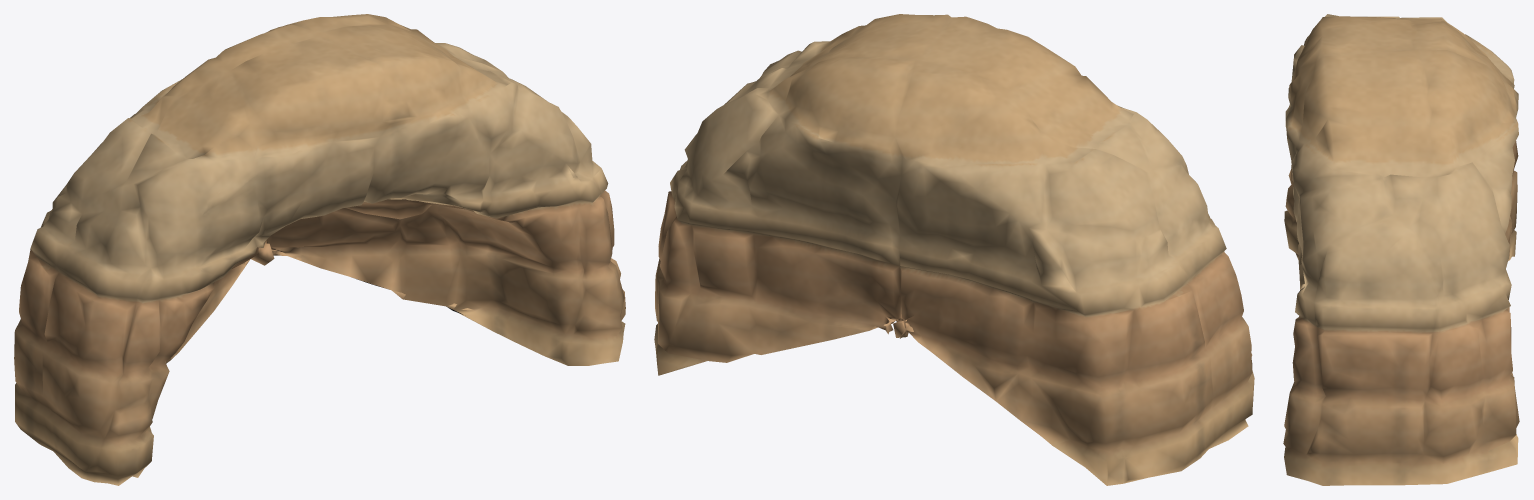
Rendered from alcove.glb.
3 views of the same model, side by side, from view 1: azimuth 30°, elevation 25°; view 2: azimuth 150°, elevation 25°; view 3: azimuth 270°, elevation 25° (orthographic). The views are drawn at different scales.
Parts seen in each view (by area): view 1: alcove_game; view 2: alcove_game; view 3: alcove_game.
Boxes of the visible parts, x1=… form: alcove_game: x1=14, y1=14, x2=625, y2=485; alcove_game: x1=654, y1=14, x2=1254, y2=485; alcove_game: x1=1283, y1=14, x2=1519, y2=485.
Bounding box in the file's own units: 20.66 × 12.5 × 8.14.
1 material, 1 textured.
